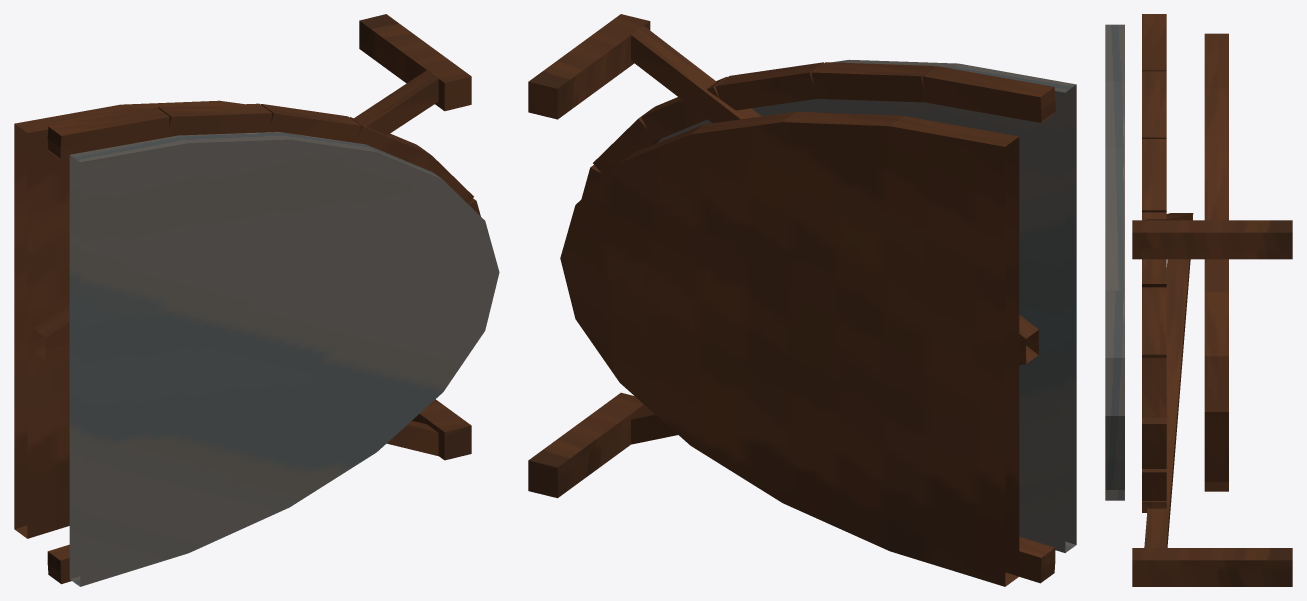
File: pz_table_tables_low_01_fancy_low_glass_1_0.obj
3 renders of one model, left to right at view 1: azimuth 30°, elevation 25°; view 2: azimuth 150°, elevation 25°; view 3: azimuth 270°, elevation 25°, orthographic. The views are drawn at different scales.
Bounding box in the file's own units: 0.9541 × 0.9499 × 0.3827.
1 material, 1 textured.
